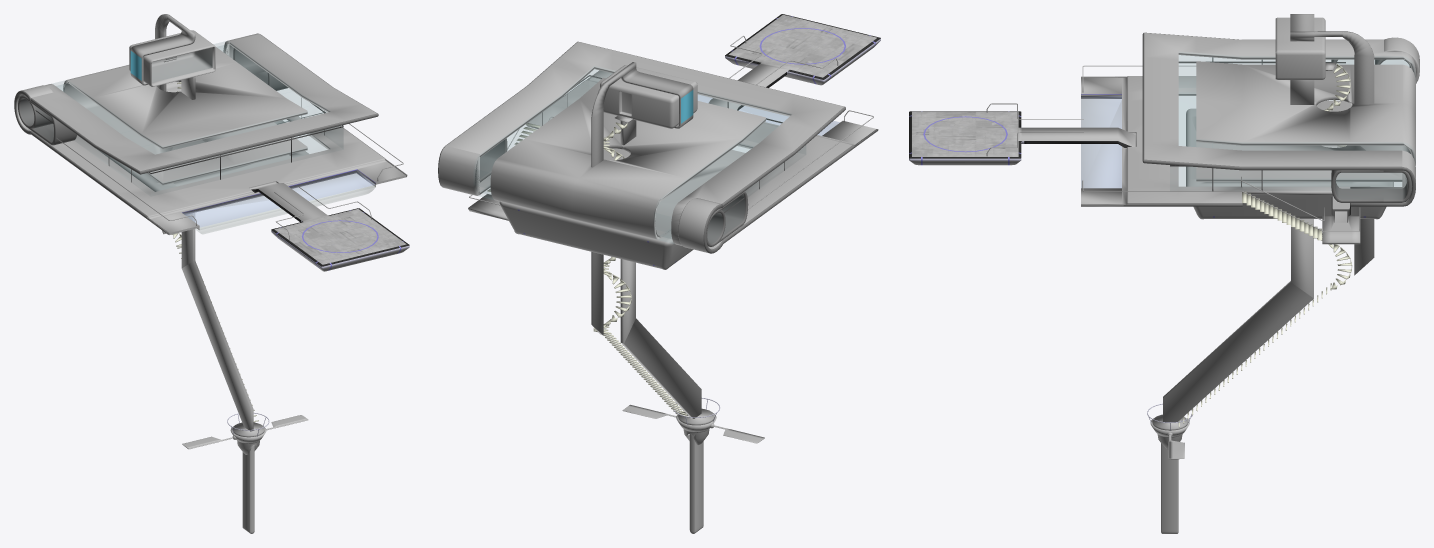
The model's file is OblivionHabitat49.obj.
3 renders of one model, left to right at view 1: azimuth 30°, elevation 25°; view 2: azimuth 150°, elevation 25°; view 3: azimuth 270°, elevation 25°, orthographic. The views are drawn at different scales.
Parts seen in each view (by area): view 1: group_Default, group_MainHolder, group_glassUP, group_Goldrim, group_pool, group_Water, group_Sink, group_LightsBedroom, group_GlassFrame, group_PlarfRim; view 2: group_Default, group_MainHolder, group_glassUP, group_Goldrim, group_steps, group_Sink; view 3: group_Default, group_MainHolder, group_glassUP, group_Goldrim, group_Water, group_pool, group_steps, group_Sink.
Part boxes in pixels (x1,y1,x2,y2): group_Default: (16, 30, 408, 533); group_MainHolder: (56, 14, 403, 431); group_glassUP: (54, 42, 342, 191); group_Goldrim: (14, 34, 407, 234); group_pool: (186, 173, 375, 234); group_Water: (183, 171, 374, 227); group_Sink: (251, 189, 409, 266); group_LightsBedroom: (182, 169, 404, 270); group_GlassFrame: (35, 98, 343, 182); group_PlarfRim: (227, 220, 409, 436); group_Default: (439, 14, 878, 533); group_MainHolder: (469, 35, 873, 418); group_glassUP: (474, 69, 805, 243); group_Goldrim: (438, 41, 878, 253); group_steps: (487, 122, 688, 416); group_Sink: (725, 14, 880, 110); group_Default: (910, 17, 1419, 533); group_MainHolder: (986, 14, 1374, 422); group_glassUP: (1178, 55, 1413, 188); group_Goldrim: (1081, 32, 1415, 206); group_Water: (1081, 96, 1121, 187); group_pool: (1081, 99, 1121, 187); group_steps: (1174, 63, 1352, 430); group_Sink: (909, 111, 1131, 158).
Size of the model in its own units: 3.8 by 6.93 by 6.4.
